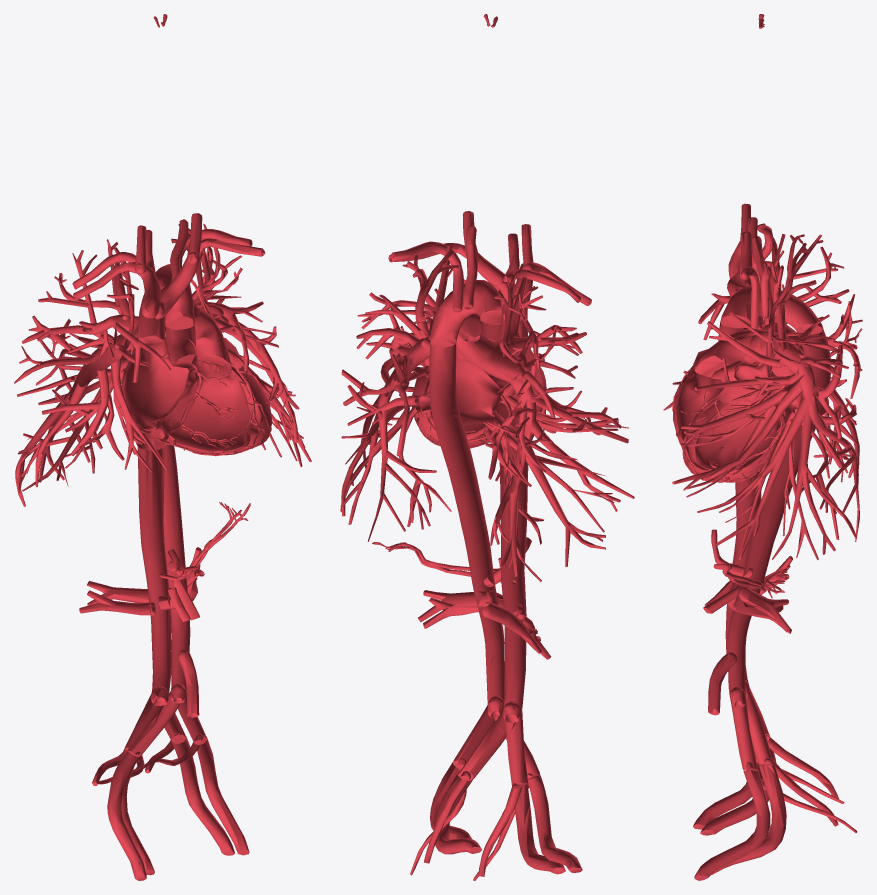
Rendered from circulatorio.glb.
3 views of the same model, side by side, from view 1: azimuth 30°, elevation 25°; view 2: azimuth 150°, elevation 25°; view 3: azimuth 270°, elevation 25° (orthographic). The views are drawn at different scales.
Visible parts, largest first — view 1: pulmonar, veias, coracao, arterias, aorta, coronarias; view 2: pulmonar, veias, aorta, arterias, coracao; view 3: pulmonar, veias, arterias, coracao, aorta, coronarias.
Part boxes in pixels (<box>): pulmonar: <box>14,223,311,506</box>; veias: <box>73,213,265,875</box>; coracao: <box>122,14,272,454</box>; arterias: <box>72,219,252,880</box>; aorta: <box>138,264,195,703</box>; coronarias: <box>158,353,271,456</box>; pulmonar: <box>340,245,634,581</box>; veias: <box>372,211,591,876</box>; aorta: <box>429,280,504,717</box>; arterias: <box>385,225,582,880</box>; coracao: <box>412,14,546,459</box>; pulmonar: <box>663,234,862,560</box>; veias: <box>700,203,838,874</box>; arterias: <box>693,217,857,880</box>; coracao: <box>673,14,801,482</box>; aorta: <box>718,285,830,707</box>; coronarias: <box>672,367,786,482</box>.
Size of the model in its own units: 2.4 by 7.21 by 1.56.
